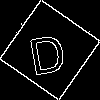D: (25, 25, 69, 76)
